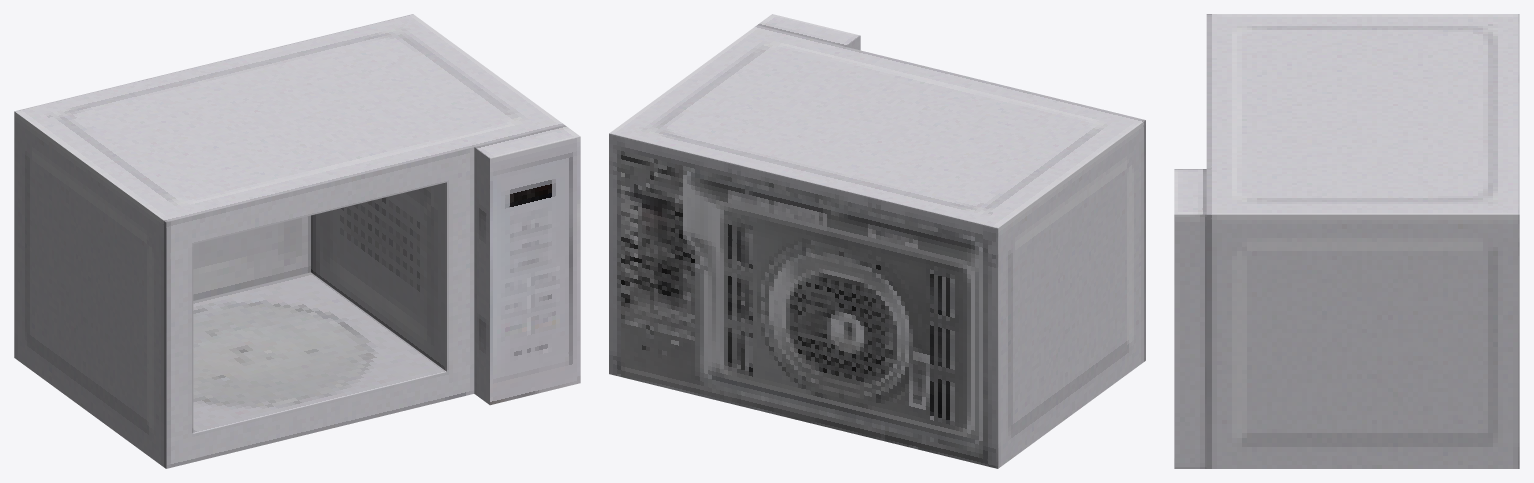
File: Microwave.glb
3 views of the same model, side by side, from view 1: azimuth 30°, elevation 25°; view 2: azimuth 150°, elevation 25°; view 3: azimuth 270°, elevation 25° (orthographic). The views are drawn at different scales.
Visible parts, largest first — view 1: microwave; view 2: microwave; view 3: microwave.
Boxes of the visible parts, x1,y1,x2,y2 form: microwave: (14,14,580,468); microwave: (609,14,1145,468); microwave: (1174,14,1519,468).
Bounding box in the file's own units: 0.44 × 0.26 × 0.32.
Materials: 1 (1 with a texture image).
